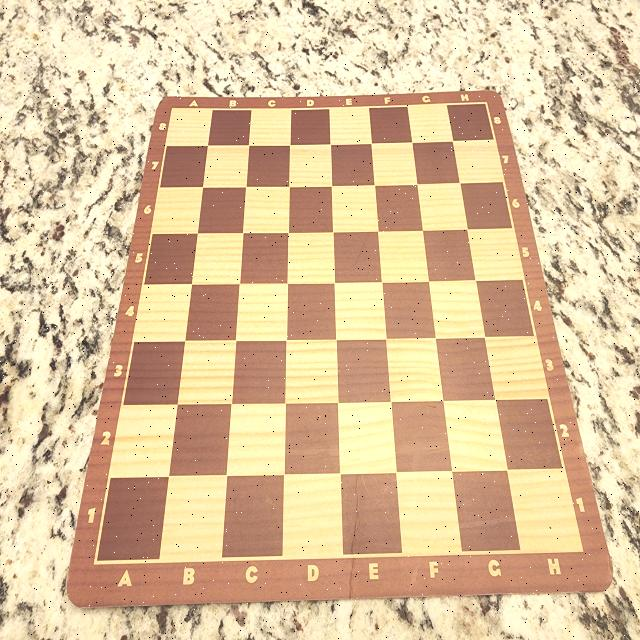Bottom-Left: (96, 478, 169, 564)
Bottom-Right: (505, 470, 582, 551)
Top-Left: (172, 110, 208, 146)
Top-Right: (454, 103, 487, 140)
